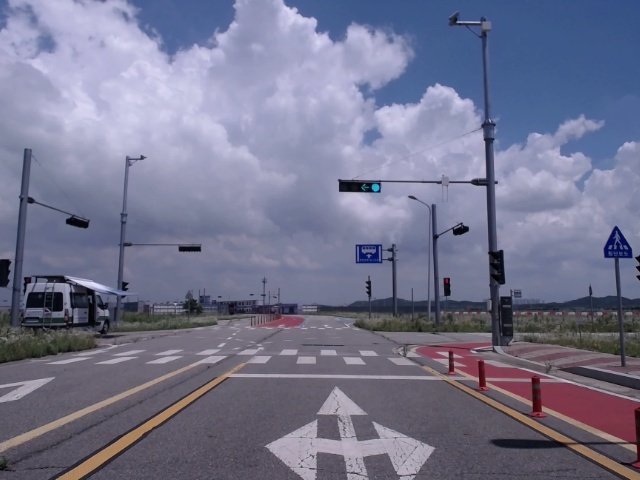all_green_4: (341, 177, 384, 190)
